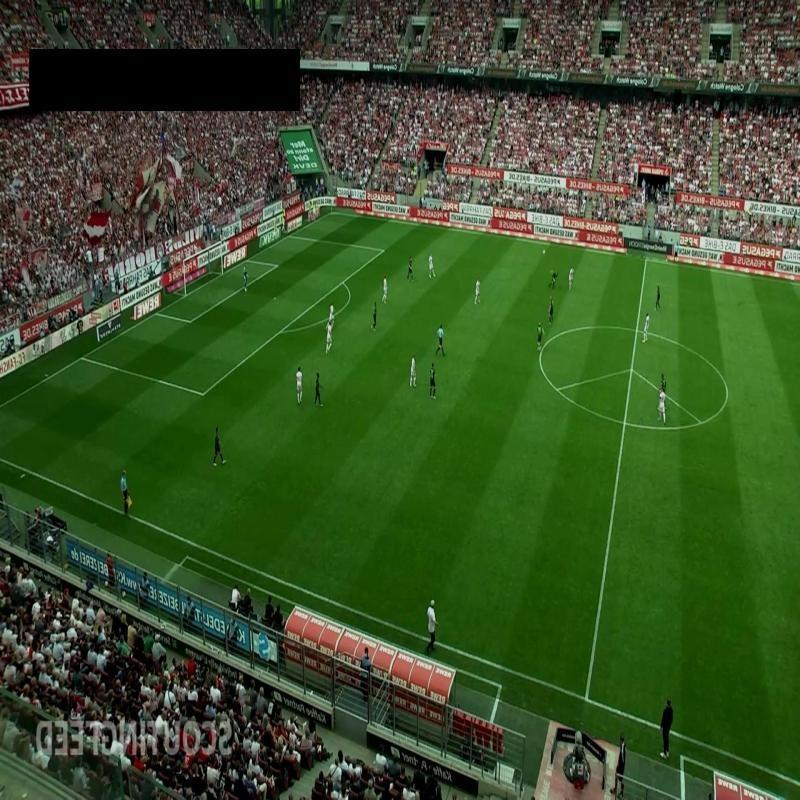1: (324, 206, 338, 219)
10: (337, 276, 351, 290)
11: (272, 326, 286, 340)
12: (195, 388, 209, 401)
13: (639, 253, 653, 266)
14: (630, 324, 644, 338)
15: (618, 414, 632, 432)
16: (574, 688, 596, 712)
2: (281, 230, 295, 244)
3: (240, 254, 253, 268)
4: (148, 306, 162, 320)
5: (75, 351, 90, 365)
7: (269, 257, 283, 271)
8: (182, 314, 196, 328)
9: (376, 243, 390, 257)
c: (534, 342, 548, 358), (719, 388, 733, 401)
